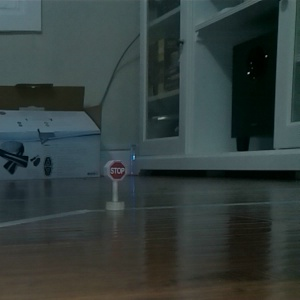stop sign: (101, 158, 128, 210)
